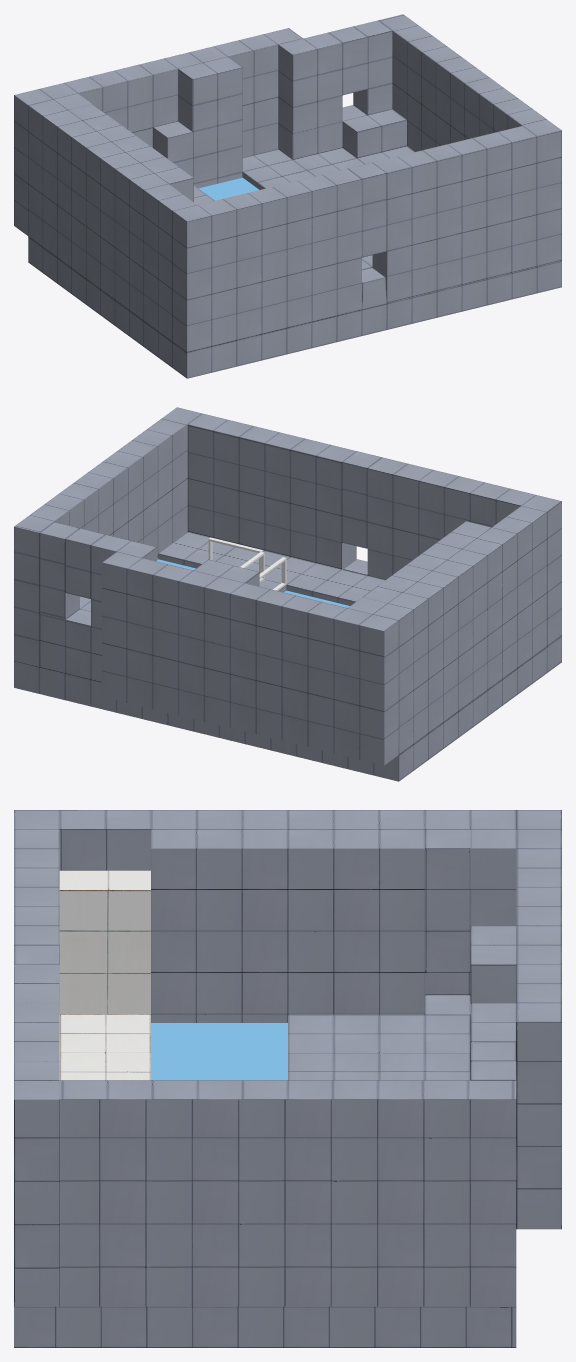
The model's file is portaltri4scale.obj.
The picture shows the model from 3 angles, top to bottom: view 1: azimuth 30°, elevation 25°; view 2: azimuth 150°, elevation 25°; view 3: azimuth 270°, elevation 25°; orthographic projection. The views are drawn at different scales.
Visible parts, largest first — view 1: pCube29, pCube31, pCube9, pCube28, pCube14, pCube15, pCube11, pCube34, pCube36, pCube8, pasted__pCube22, pCube32 (+8 smaller); view 2: pCube14, pCube9, pCube31, pCube15, pCube29, pCube28, pCube45, pCube33, pCube36, pCube32, pCube8, pCube34 (+2 smaller); view 3: pCube15, pCube8, pCube28, pCube14, pCube31, pCube9, partBc2, pCube40, pCube27, pCube24, pCube29, partBc1 (+7 smaller).
Boxes of the visible parts, x1,y1,x2,y2 form: pCube29: (172,168,361,352); pCube31: (372,120,561,303); pCube9: (28,99,197,341); pCube28: (28,236,561,378); pCube14: (14,28,302,235); pCube15: (379,14,547,151); pCube11: (178,57,242,188); pCube34: (278,32,342,133); pCube36: (353,20,392,115); pCube8: (82,114,193,201); pasted__pCube22: (342,109,406,158); pCube32: (348,162,386,257); pCube14: (102,551,398,765); pCube9: (373,506,547,754); pCube31: (162,407,356,569); pCube15: (14,418,187,666); pCube29: (367,457,561,645); pCube28: (14,636,561,781); pCube45: (158,532,385,605); pCube33: (39,609,101,682); pCube36: (39,522,79,619); pCube32: (342,451,381,548); pCube8: (378,521,491,592); pCube34: (91,534,156,628); pCube15: (59,1080,516,1306); pCube8: (151,829,424,1022); pCube28: (14,1306,516,1347); pCube14: (516,810,561,1229); pCube31: (14,964,59,1306); pCube9: (59,810,516,994); partBc2: (59,870,150,1014); pCube40: (288,1014,470,1080); pCube27: (151,1023,287,1080); pCube24: (425,829,470,972); pCube29: (14,810,59,945); partBc1: (59,1014,150,1080).
Size of what is drawn, in the model's own units: 30 by 12 by 24.
